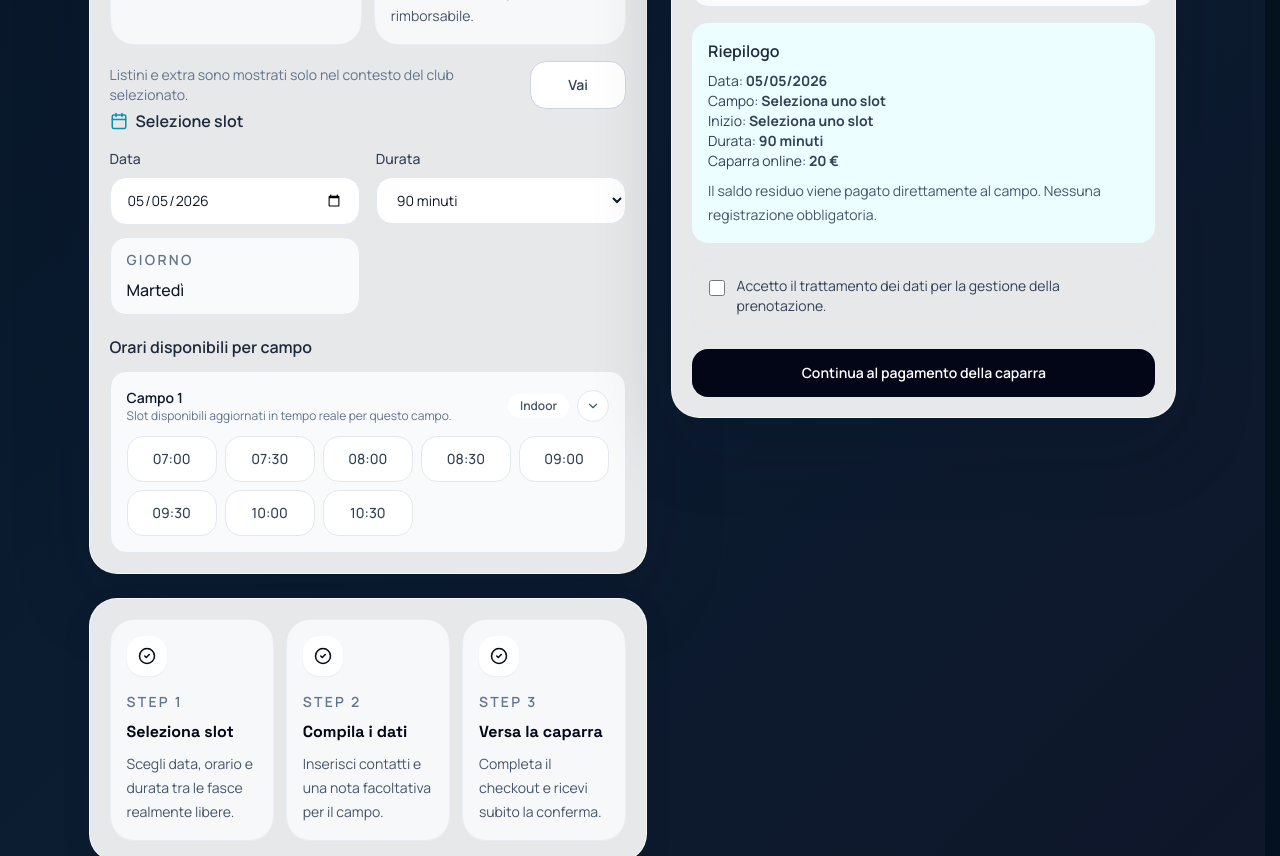
it: PublicBookingPage › starts each court card collapsed with 8 slots and expands it with the arrow control
(page scrolled)
Check: the text "Indoor" is shown, box [508,394,569,418]
Check: the button "07:00" is shown, box [126,436,217,482]
What coordinates should you click on to do the following:
click the button named "Espandi orari di Campo 1"
I would click on:
 (593, 406)
Its box is [577,390,609,422].
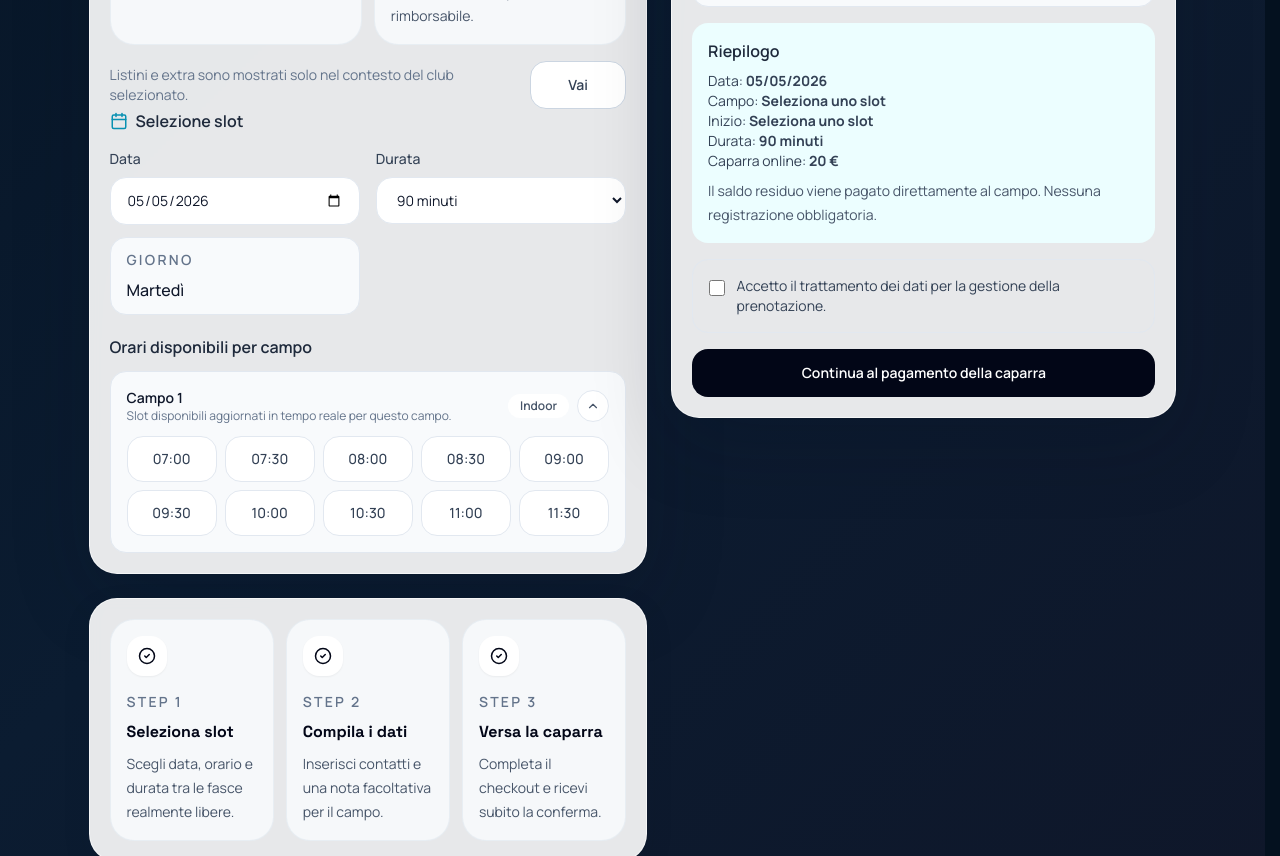
Check: the button named "Comprimi orari di Campo 1" is shown, box [577,390,609,422]
Check: the button "11:00" is shown, box [421,490,511,536]
Check: the button "11:30" is shown, box [519,490,609,536]
